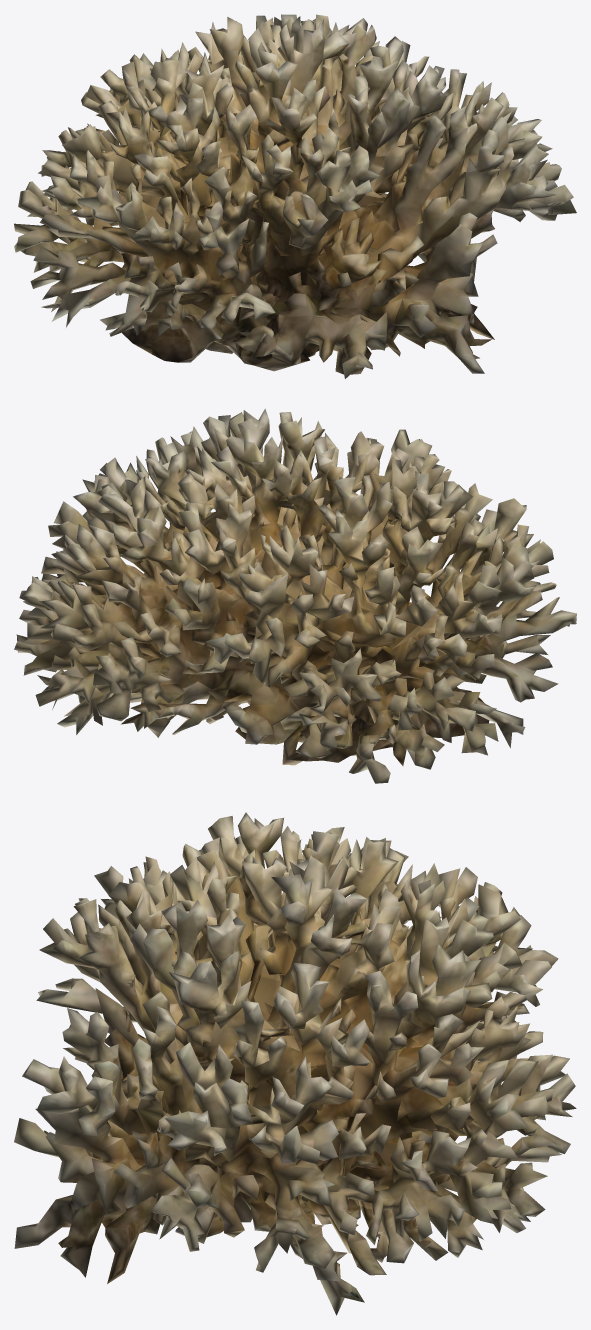
File: pocillopora.glb
The picture shows the model from 3 angles, top to bottom: view 1: azimuth 30°, elevation 25°; view 2: azimuth 150°, elevation 25°; view 3: azimuth 270°, elevation 25°; orthographic projection. The views are drawn at different scales.
Visible parts, largest first — view 1: prop; view 2: prop; view 3: prop.
Boxes of the visible parts, x1,y1,x2,y2 form: prop: (14,14,576,378); prop: (14,408,576,783); prop: (14,812,576,1315).
Bounding box in the file's own units: 0.9951 × 0.5967 × 0.8321.
1 material, 1 textured.
